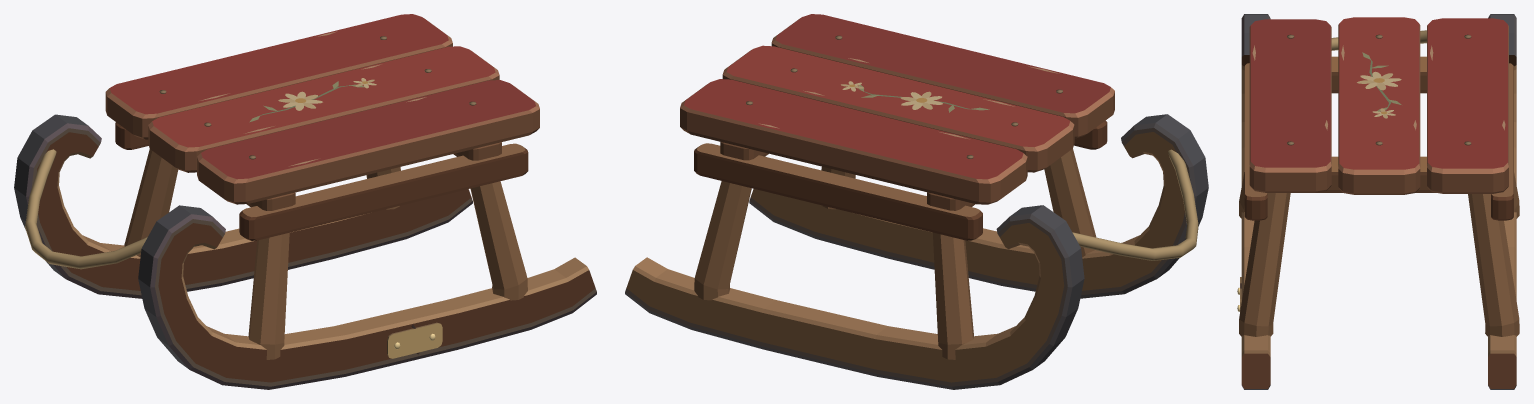
File: toy_sledge.glb
The picture shows the model from 3 angles, left to right: view 1: azimuth 30°, elevation 25°; view 2: azimuth 150°, elevation 25°; view 3: azimuth 270°, elevation 25°; orthographic projection.
Parts seen in each view (by area): view 1: toy_sledge; view 2: toy_sledge; view 3: toy_sledge.
Boxes of the visible parts, x1,y1,x2,y2 form: toy_sledge: (14,14,596,389); toy_sledge: (625,14,1208,389); toy_sledge: (1237,14,1519,389).
Size of the model in its own units: 0.7 by 0.3 by 0.35.
